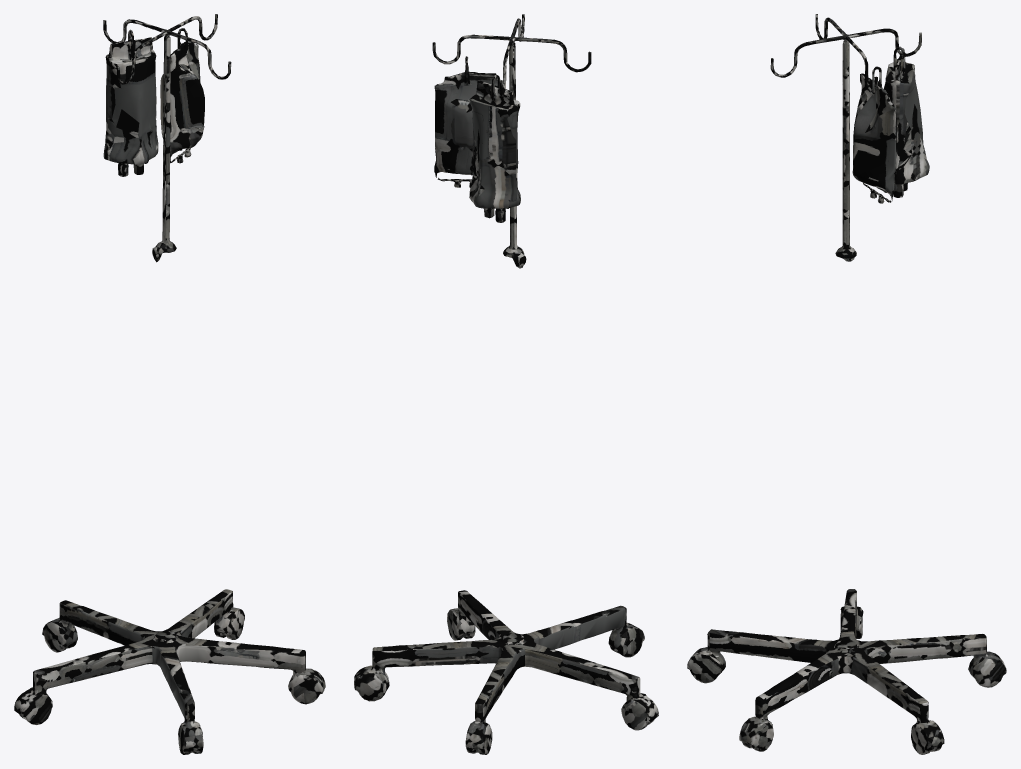
The picture shows the model from 3 angles, left to right: view 1: azimuth 30°, elevation 25°; view 2: azimuth 150°, elevation 25°; view 3: azimuth 270°, elevation 25°; orthographic projection.
Parts seen in each view (by area): view 1: repaired; view 2: repaired; view 3: repaired.
Part boxes in pixels (left/top/right/bottom): repaired: left=14, top=14, right=325, bottom=754; repaired: left=354, top=14, right=658, bottom=754; repaired: left=687, top=14, right=1006, bottom=754.
Bounding box in the file's own units: 0.4185 × 0.9994 × 0.4343.
